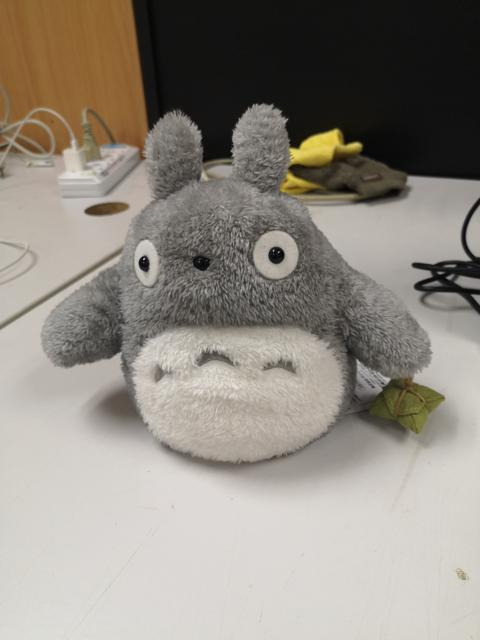totoro: (39, 96, 448, 474)
